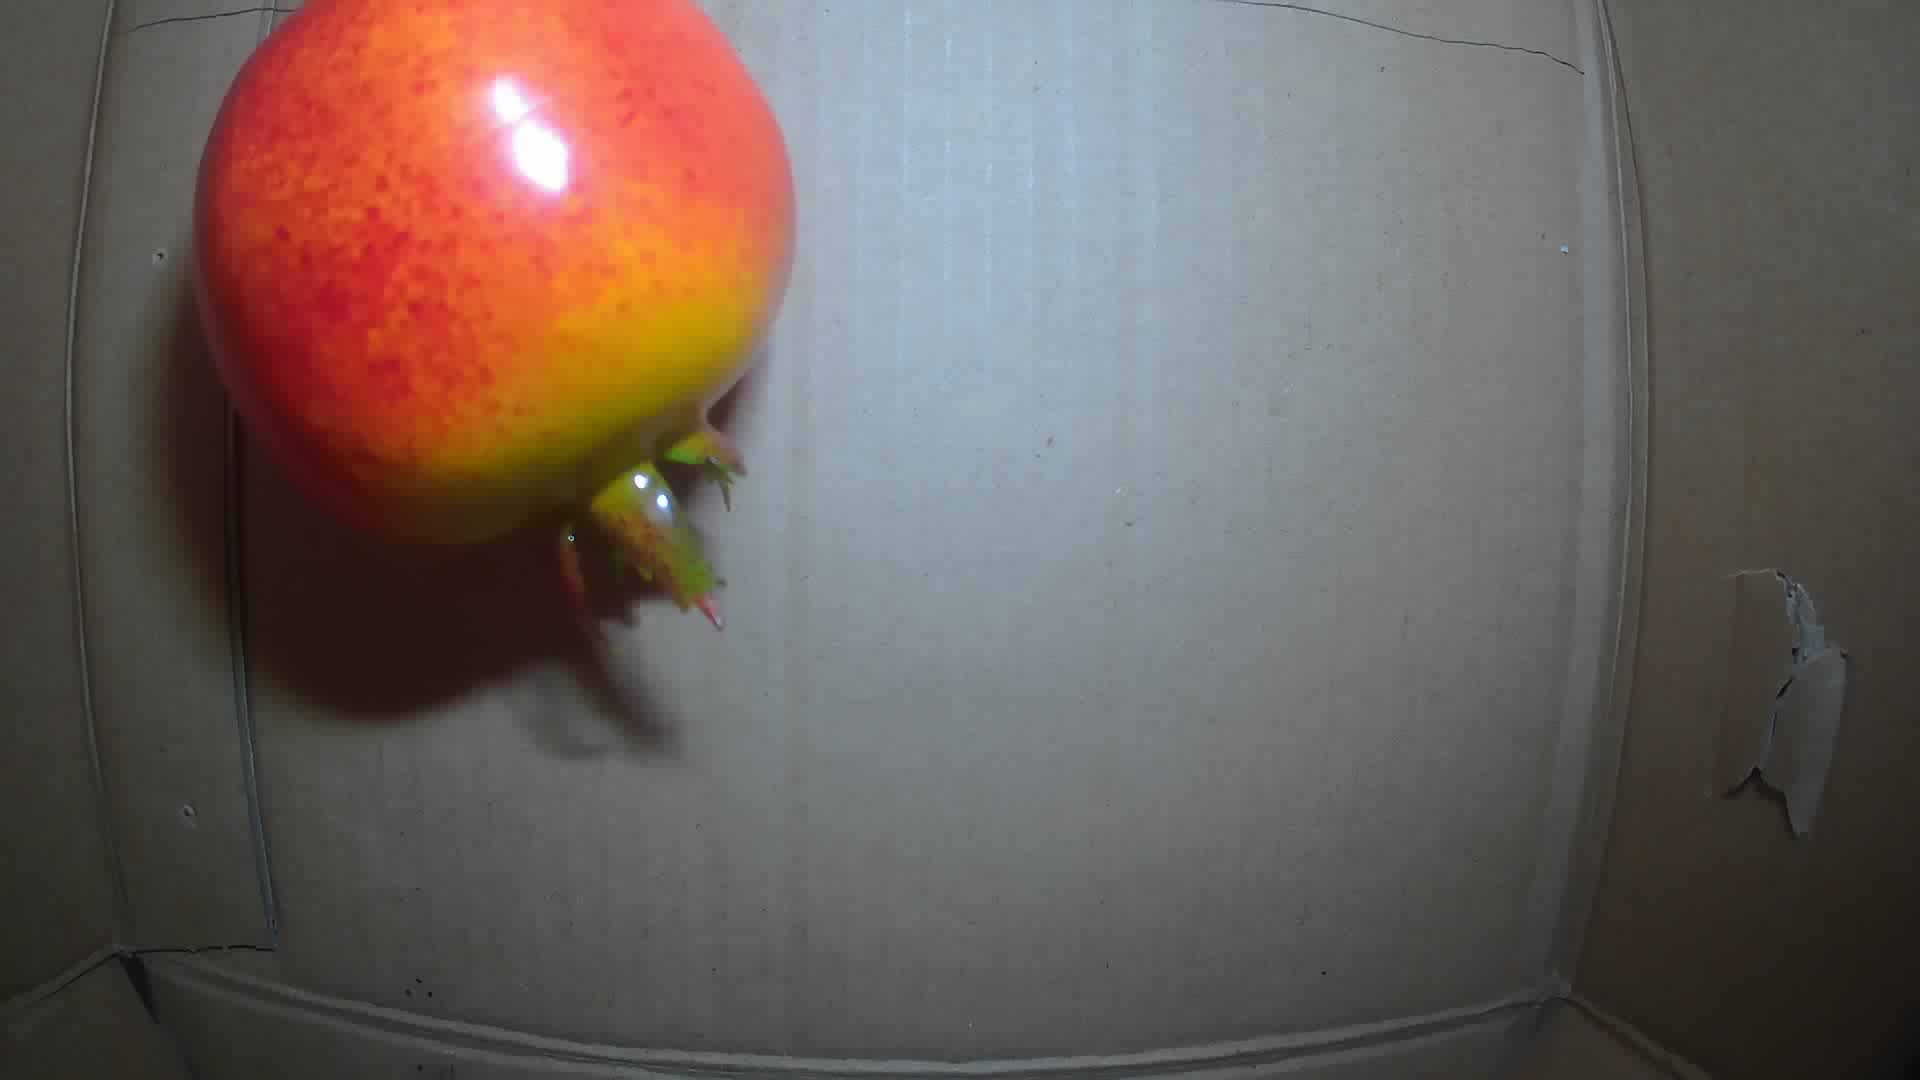pomegranate: (194, 1, 803, 629)
